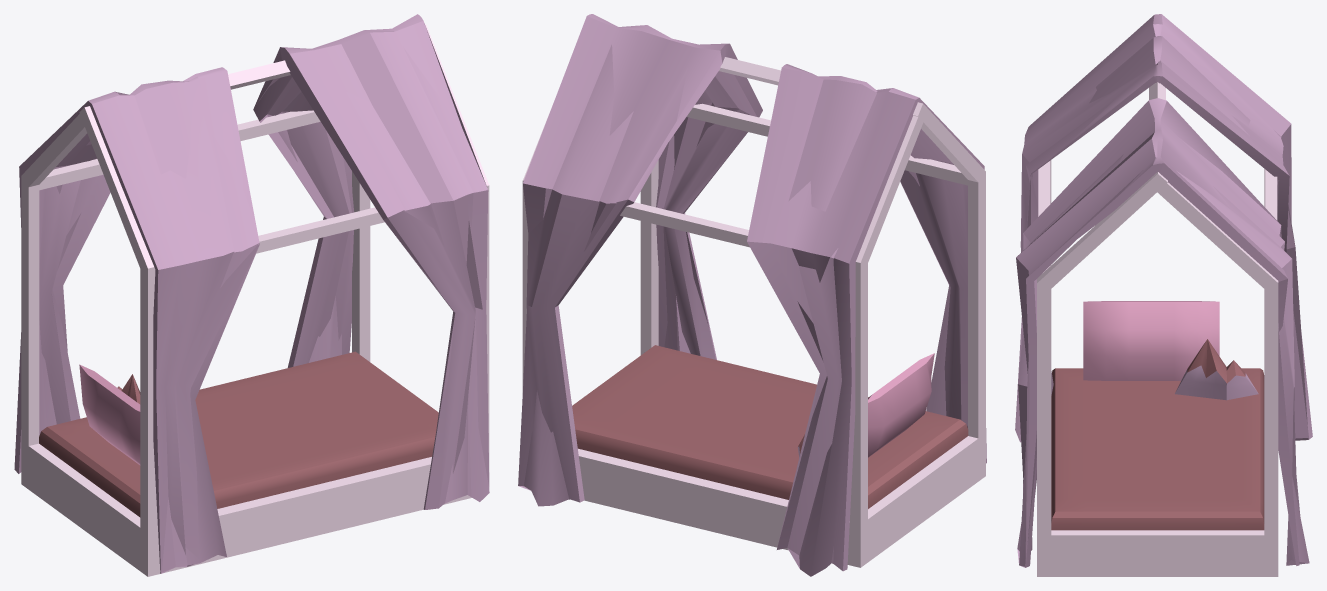
The model's file is Furn1_bed_color2_joined.fbx.
The picture shows the model from 3 angles, left to right: view 1: azimuth 30°, elevation 25°; view 2: azimuth 150°, elevation 25°; view 3: azimuth 270°, elevation 25°; orthographic projection. The views are drawn at different scales.
Parts seen in each view (by area): view 1: Плоскость.002; view 2: Плоскость.002; view 3: Плоскость.002.
Part boxes in pixels (x1,y1,x2,y2): Плоскость.002: (14,14,489,576); Плоскость.002: (518,14,986,576); Плоскость.002: (1015,14,1312,576).
Size of the model in its own units: 358 by 441 by 284.
